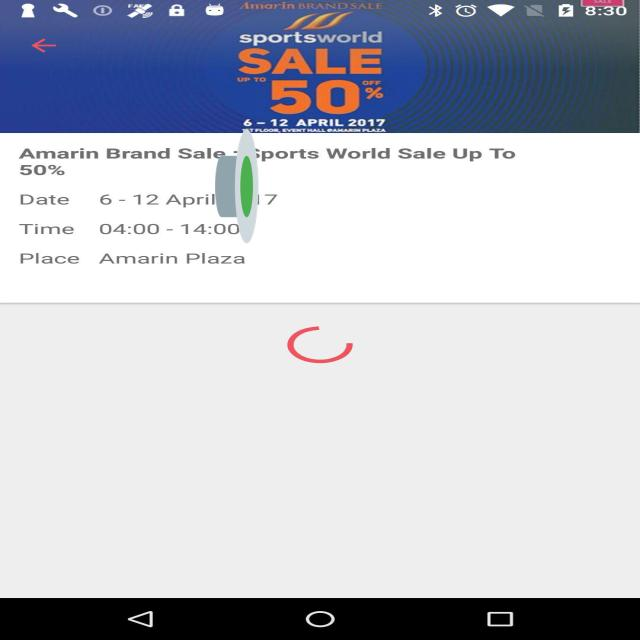social proof: (215, 81, 258, 292)
